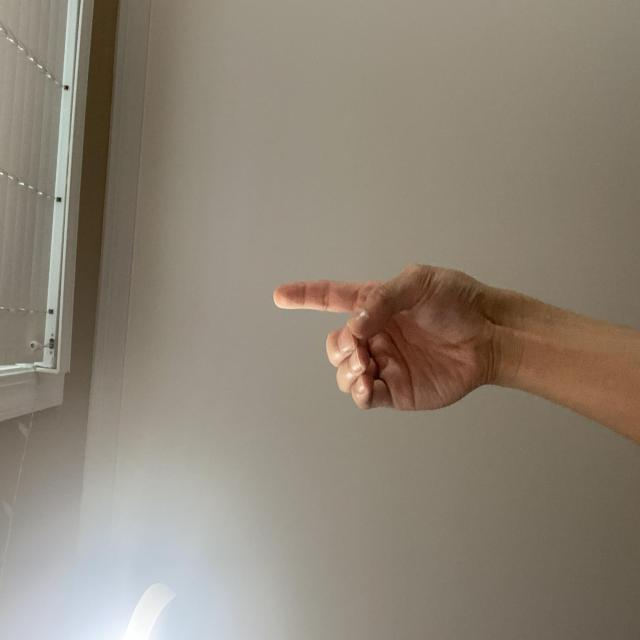D: (161, 353, 295, 640)
